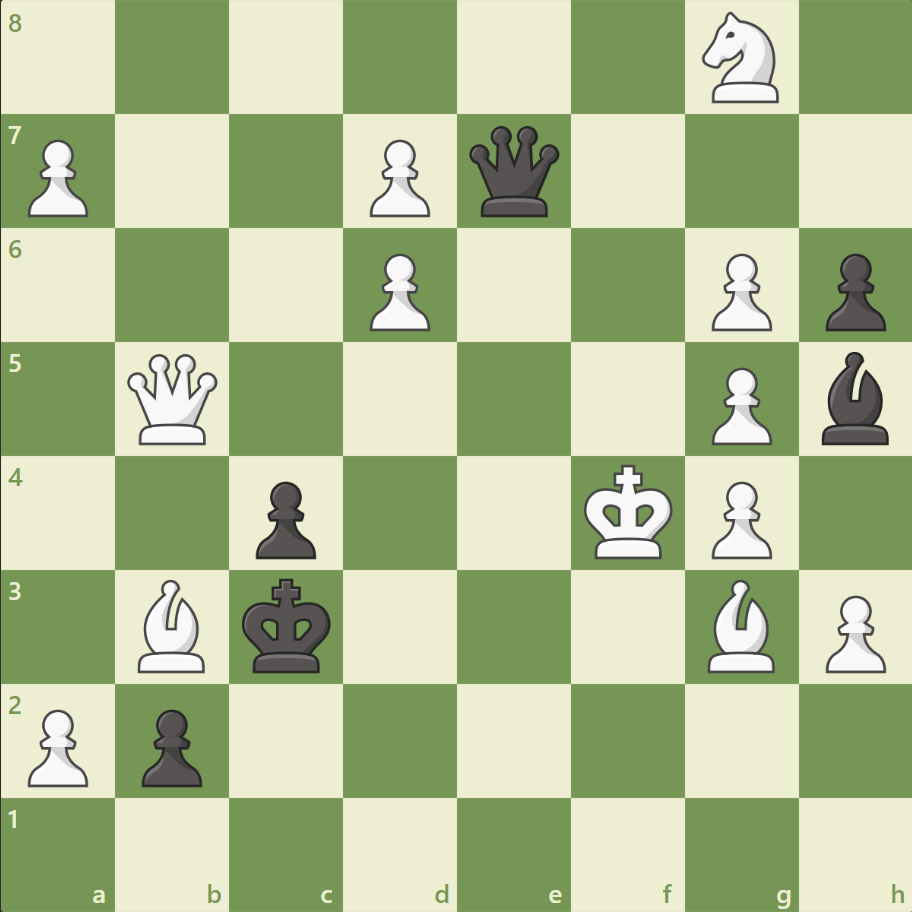B: (131, 574, 215, 676), (698, 574, 782, 676)
K: (579, 458, 679, 566)
N: (692, 7, 789, 110)
P: (20, 132, 95, 223), (701, 246, 776, 337), (701, 359, 776, 450), (701, 473, 776, 564), (20, 700, 95, 791), (361, 132, 435, 223), (361, 246, 435, 337), (815, 586, 889, 677)
Q: (124, 349, 223, 449)
b: (812, 347, 896, 449)
k: (238, 571, 338, 679)
p: (247, 473, 322, 564), (133, 700, 208, 791), (815, 246, 889, 337)
q: (464, 122, 563, 222)
